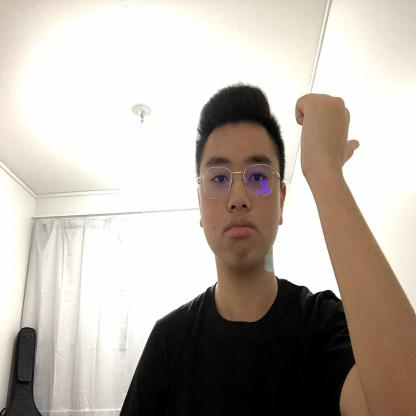left: (292, 91, 362, 180)
